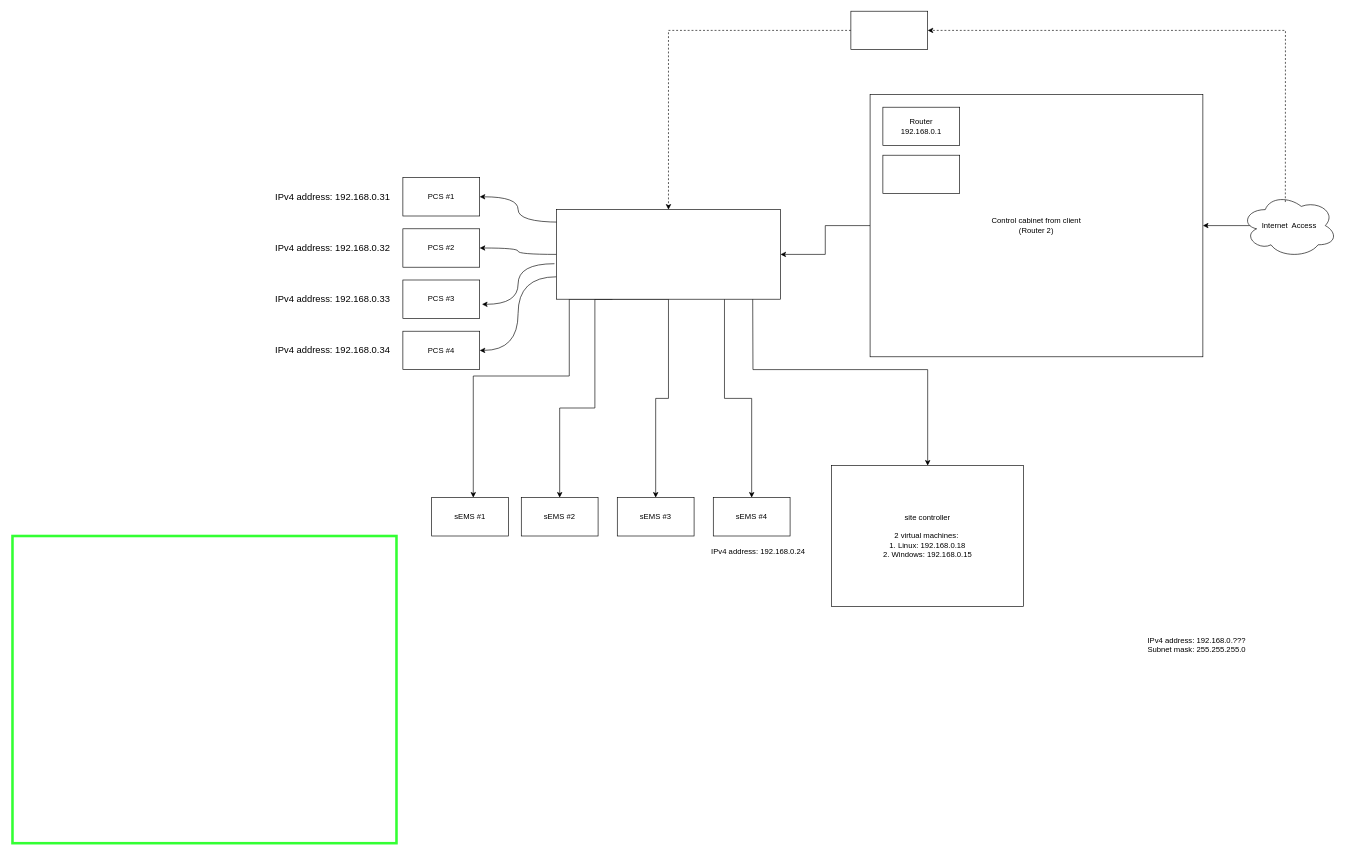
Image size: 1348x856. Some labels were removed from this diagram. Each missing label, with the centre of its shape:
Network Switch: pixel 668 254
Router 1 (removed): pixel 889 30
